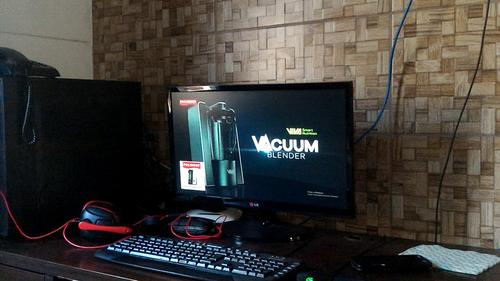Polishop #1: (179, 159, 205, 191)
